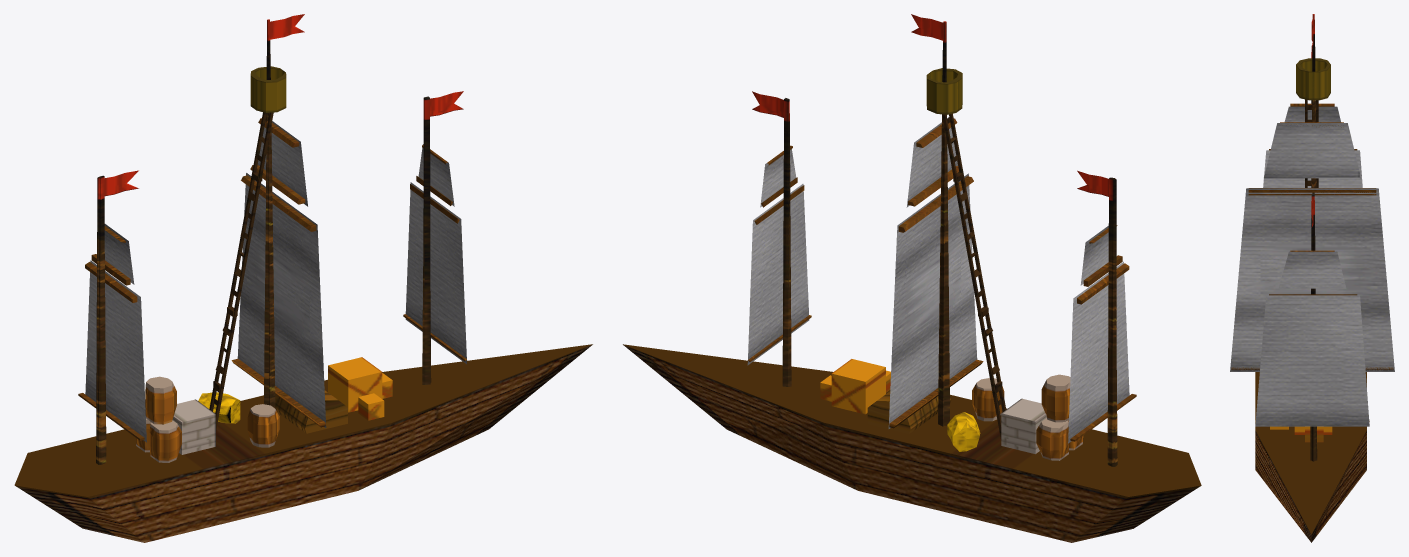
The model's file is Boat.glb.
3 renders of one model, left to right at view 1: azimuth 30°, elevation 25°; view 2: azimuth 150°, elevation 25°; view 3: azimuth 270°, elevation 25°, orthographic. The views are drawn at different scales.
Visible parts, largest first — view 1: Boat; view 2: Boat; view 3: Boat.
Boxes of the visible parts, x1,y1,x2,y2 form: Boat: [14, 14, 592, 542]; Boat: [623, 14, 1201, 542]; Boat: [1230, 14, 1394, 542].
Bounding box in the file's own units: 423 × 322 × 112.
1 material, 1 textured.
